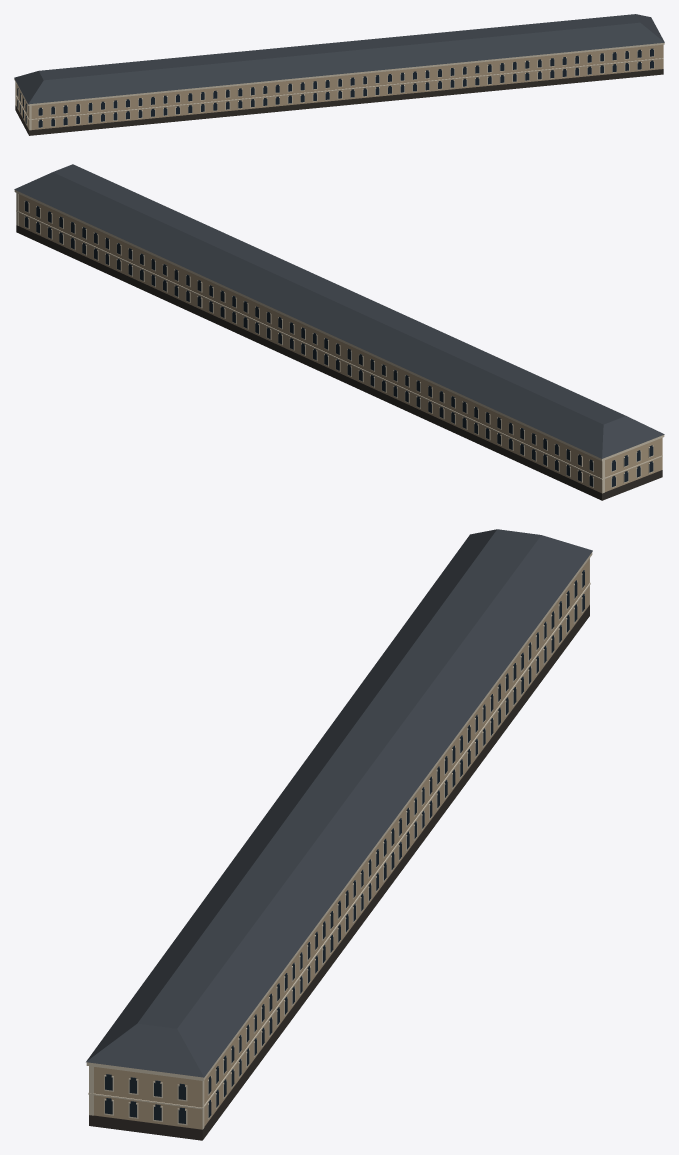
The model's file is kaserne-6.glb.
3 views of the same model, one above another, from view 1: azimuth 30°, elevation 25°; view 2: azimuth 150°, elevation 25°; view 3: azimuth 270°, elevation 25° (orthographic). The views are drawn at different scales.
Parts seen in each view (by area): view 1: kaserne-6_lod0; view 2: kaserne-6_lod0; view 3: kaserne-6_lod0.
Part boxes in pixels (bbox=[...]): kaserne-6_lod0: bbox=[14, 14, 664, 135]; kaserne-6_lod0: bbox=[14, 164, 664, 500]; kaserne-6_lod0: bbox=[86, 529, 592, 1140].
Size of what is drawn, in the model's own units: 181 by 14.2 by 71.36.
